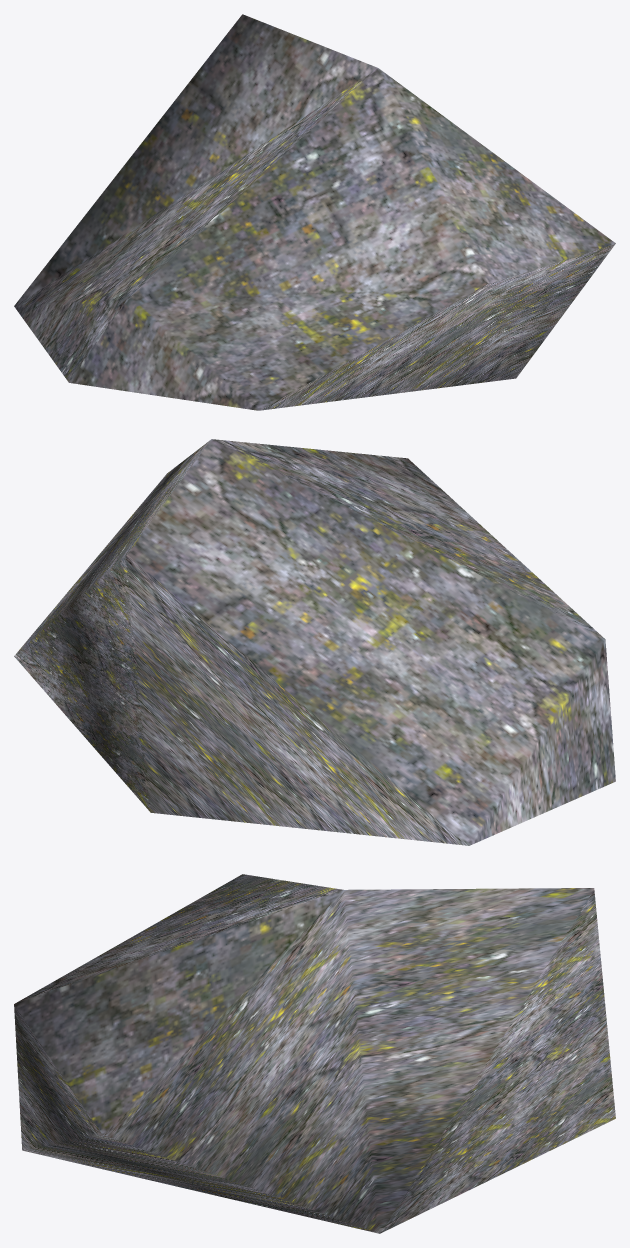
The model's file is rock_weatheredmossy_medium_a4_l2.fbx.
3 views of the same model, one above another, from view 1: azimuth 30°, elevation 25°; view 2: azimuth 150°, elevation 25°; view 3: azimuth 270°, elevation 25° (orthographic). The views are drawn at different scales.
Parts seen in each view (by area): view 1: mesh_node; view 2: mesh_node; view 3: mesh_node.
Part boxes in pixels (x1=…): mesh_node: x1=14, y1=14, x2=615, y2=410; mesh_node: x1=14, y1=439, x2=615, y2=845; mesh_node: x1=14, y1=874, x2=615, y2=1233.
Bounding box in the file's own units: 0.4679 × 0.2082 × 0.4222.
1 material, 1 textured.
